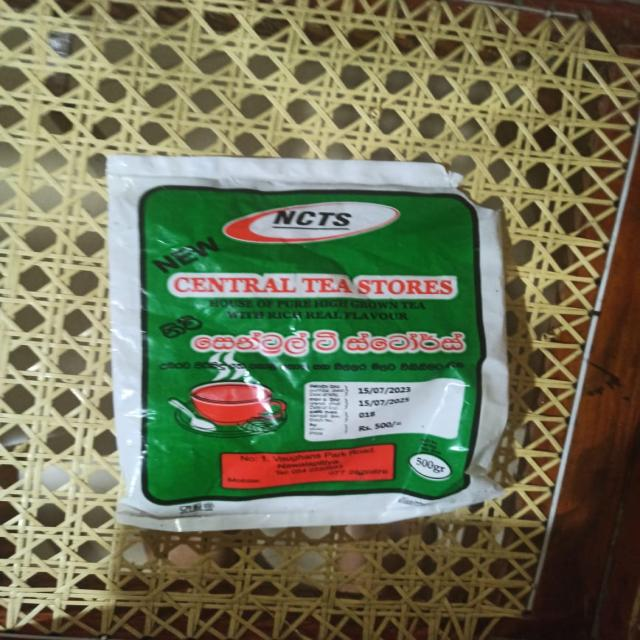Central Tea: (98, 162, 500, 572)
